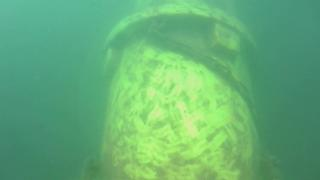pipe: (80, 1, 263, 179)
